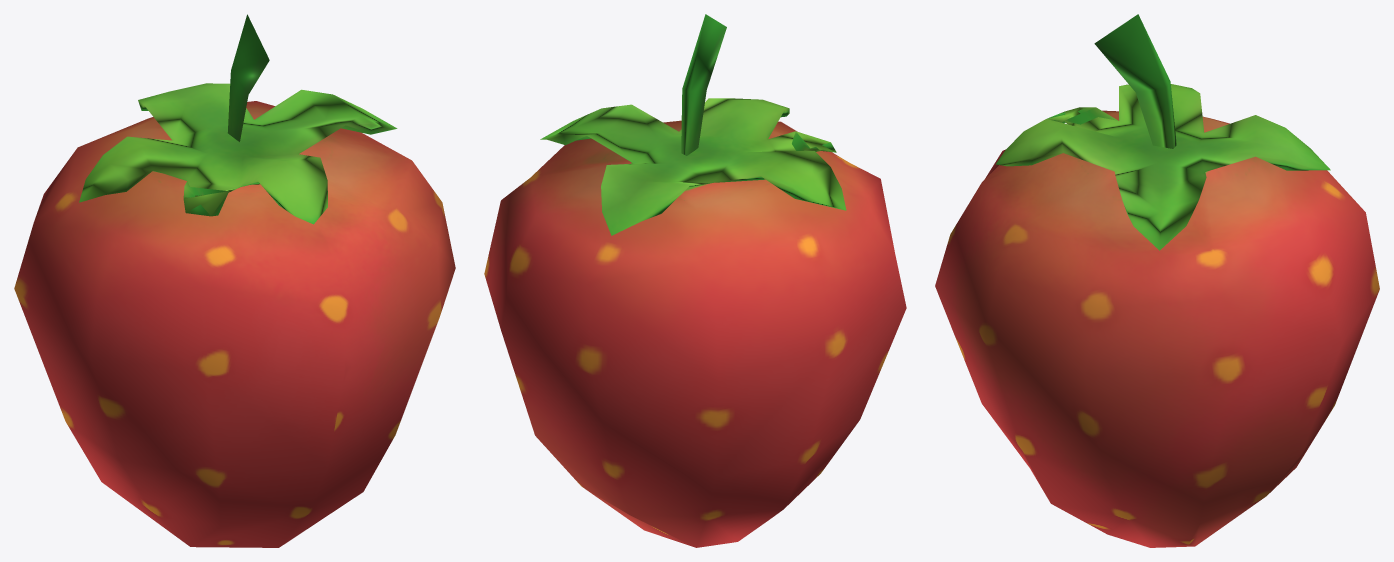
The model's file is Strawberry.fbx.
3 renders of one model, left to right at view 1: azimuth 30°, elevation 25°; view 2: azimuth 150°, elevation 25°; view 3: azimuth 270°, elevation 25°, orthographic. The views are drawn at different scales.
Parts seen in each view (by area): view 1: Strawberry; view 2: Strawberry; view 3: Strawberry.
Boxes of the visible parts, bbox=[...] form: Strawberry: bbox=[14, 14, 455, 547]; Strawberry: bbox=[484, 14, 906, 547]; Strawberry: bbox=[935, 14, 1379, 547].
Size of the model in its own units: 1.45 by 2.01 by 1.55.
